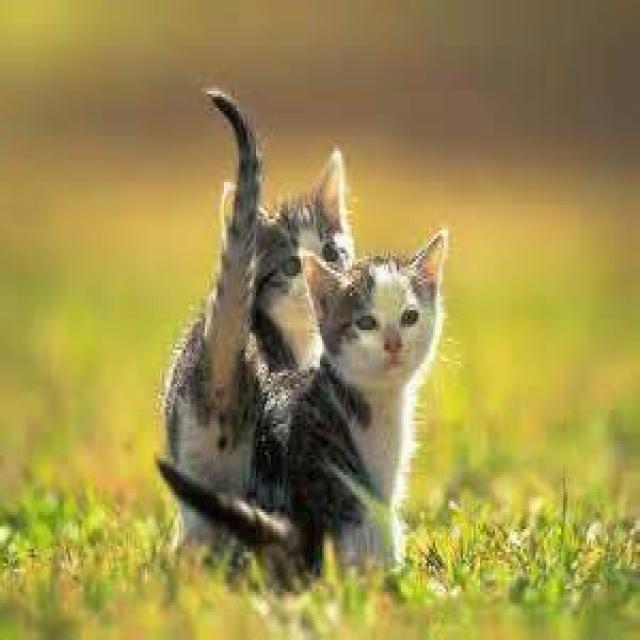cat: (156, 225, 448, 586)
